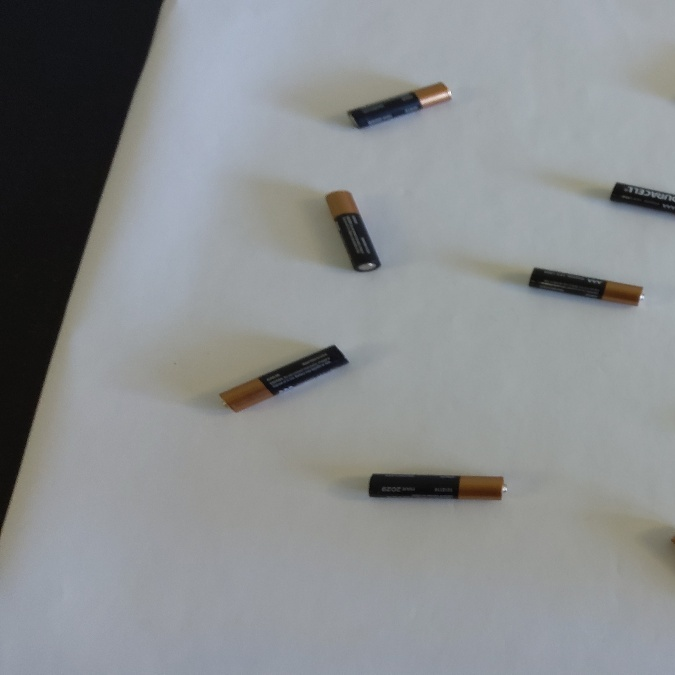battery: (209, 335, 363, 412), (518, 254, 659, 318), (354, 463, 525, 508), (311, 181, 389, 279), (347, 71, 458, 134)
